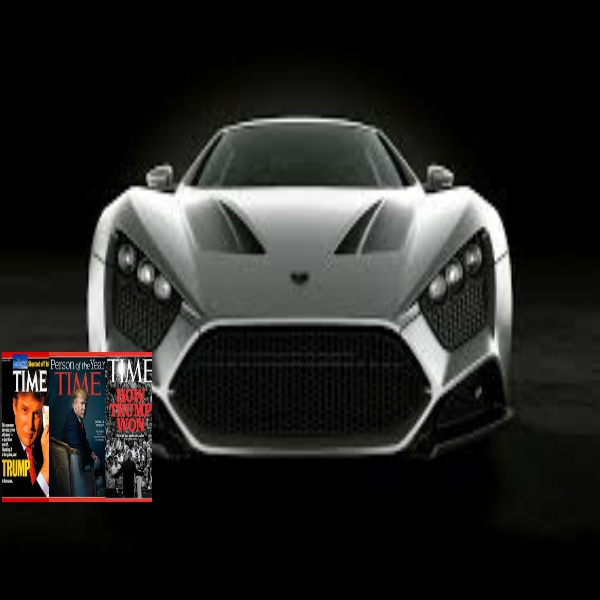time_cover: (7, 345, 156, 499), (7, 347, 48, 499)
